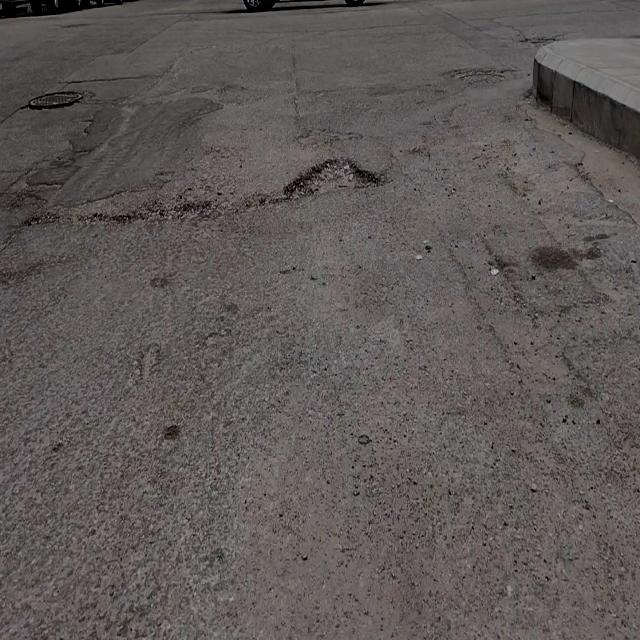Potholes: (286, 154, 383, 201)
